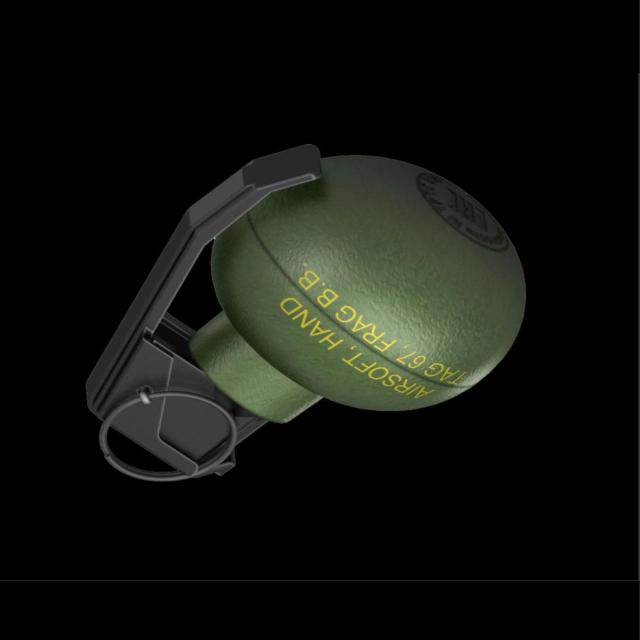grenade: (89, 141, 529, 479)
